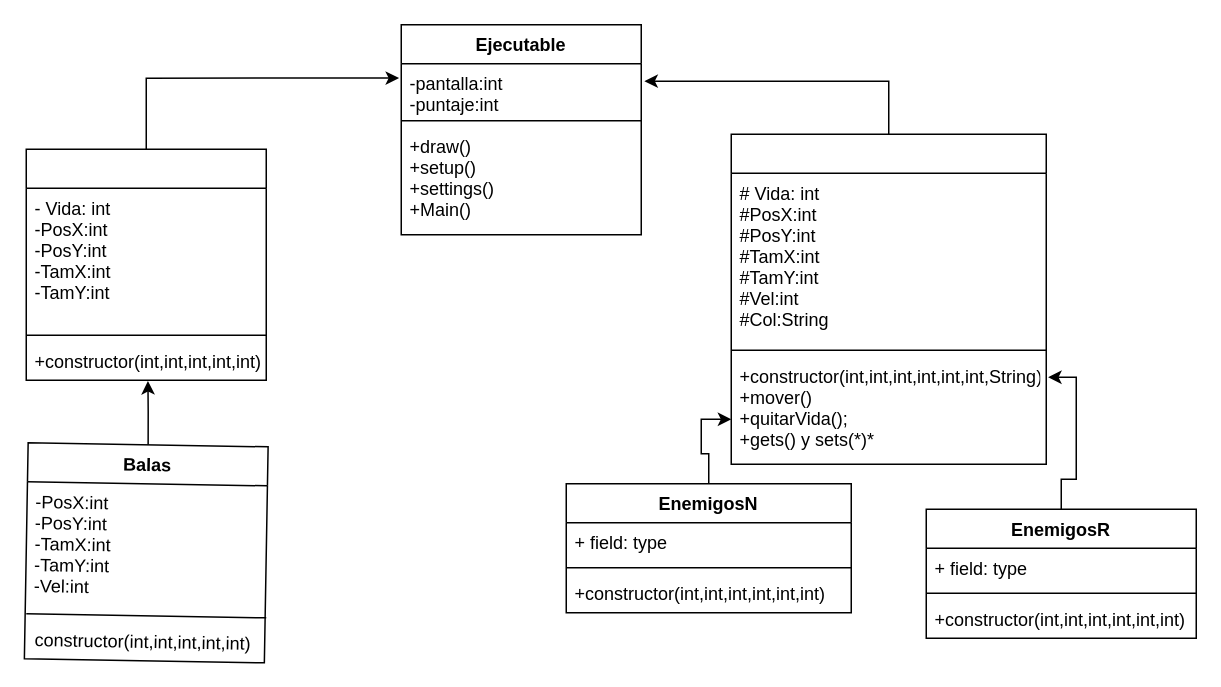
Image size: 1221x687. Some labels were removed from this diagram. Each missing label, with the box of its shape:
Enemigos: (730, 133, 1046, 464)
Héroe: (25, 148, 266, 380)
